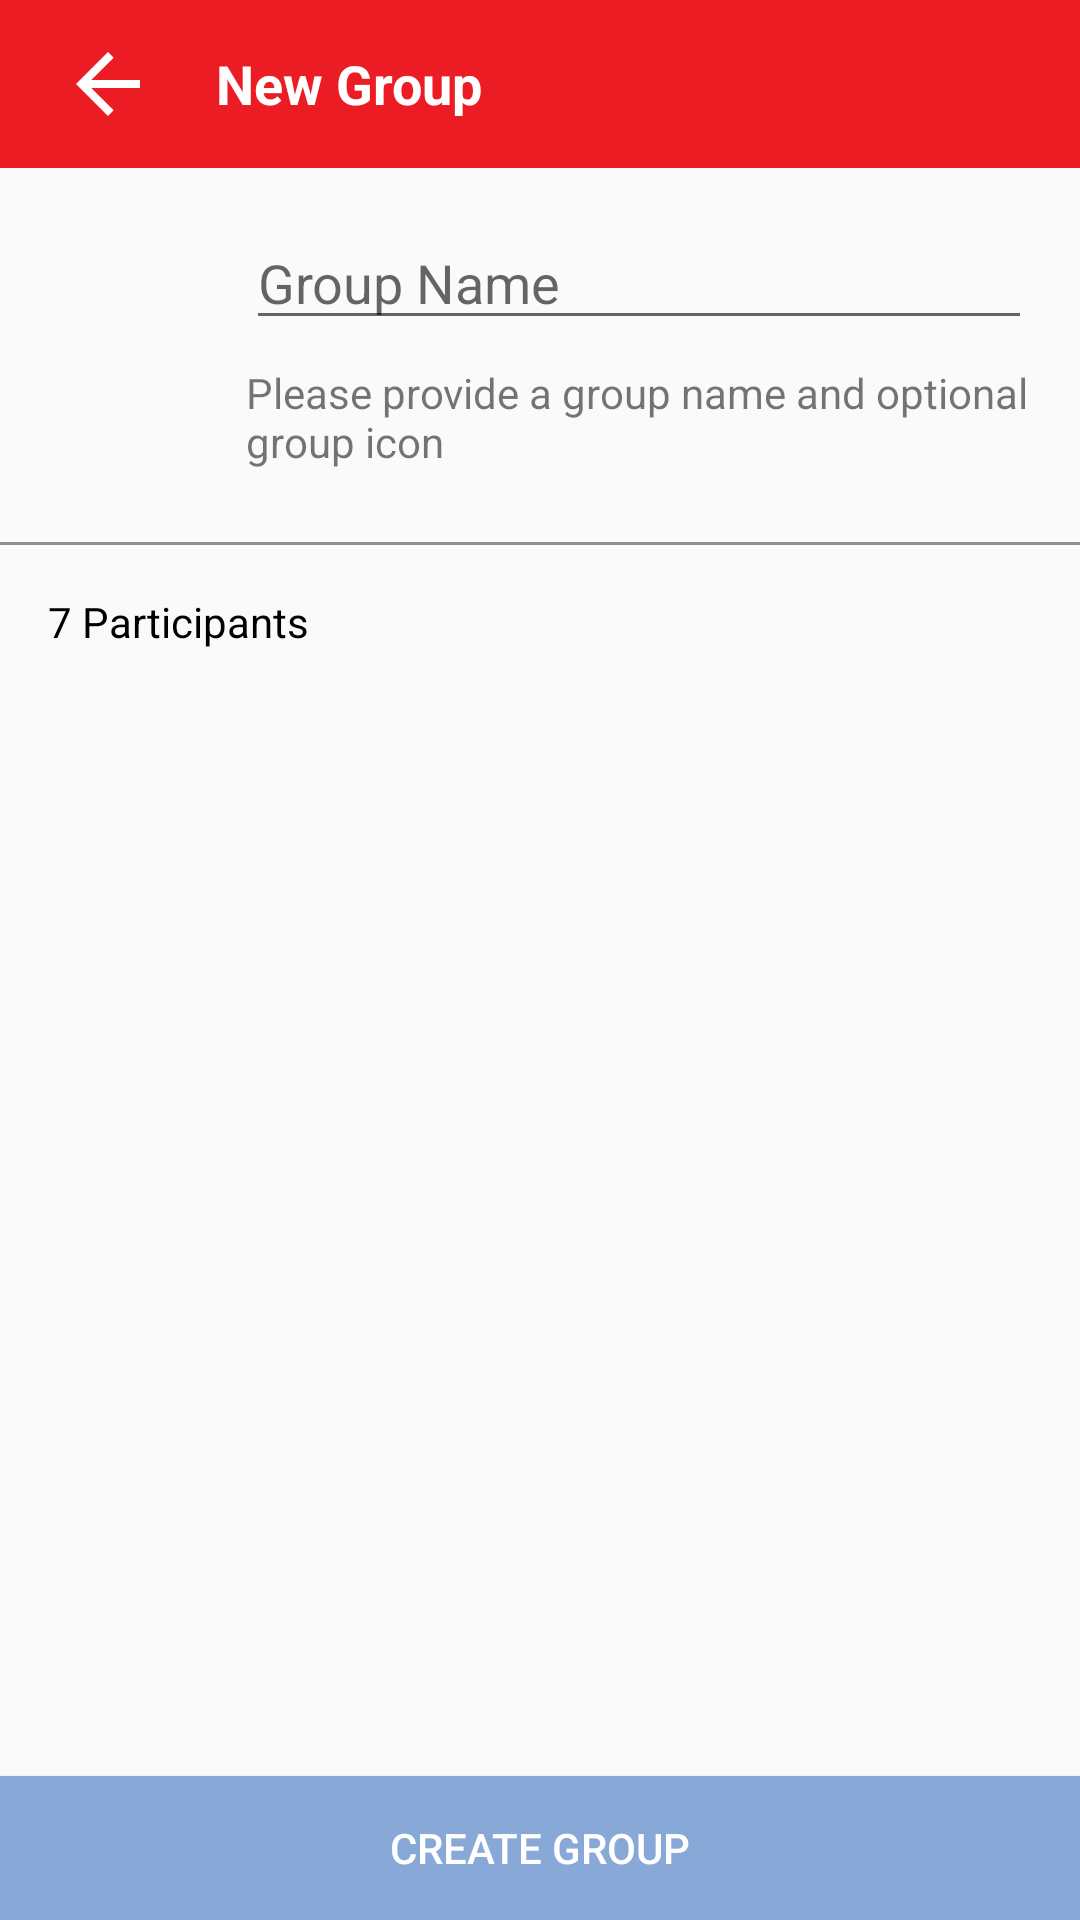

Icon bounding boxes for this 1080w x 1920h phone screenshot, format (x1, y1, x2, y2):
arrow back: (76, 52, 140, 116)
